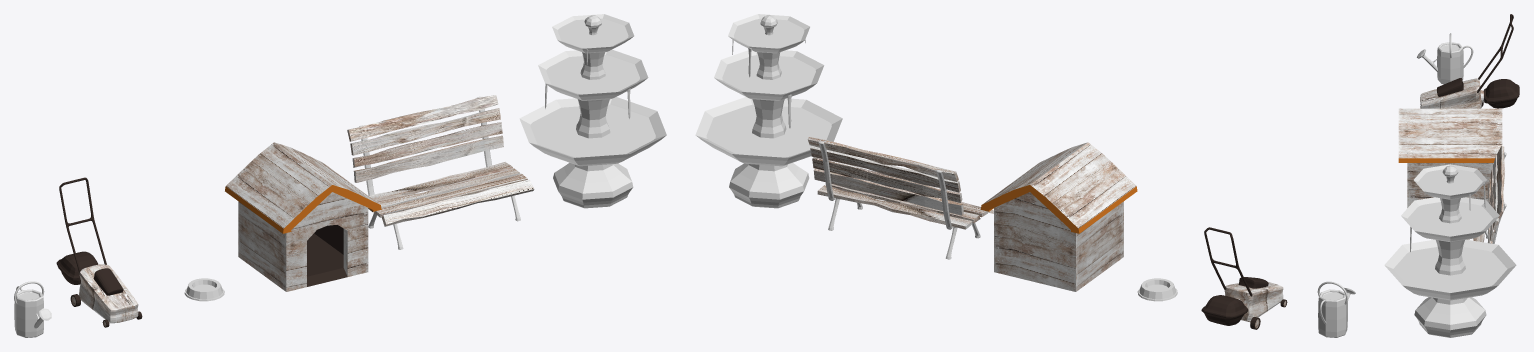
The model's file is Garden.fbx.
The picture shows the model from 3 angles, left to right: view 1: azimuth 30°, elevation 25°; view 2: azimuth 150°, elevation 25°; view 3: azimuth 270°, elevation 25°; orthographic projection. The views are drawn at different scales.
Visible parts, largest first — view 1: DogHouse, Bench, Fountain, FrozenWater, Lawnmower, WateringCan, DogPlate, Bench_Metal; view 2: DogHouse, Fountain, Bench, FrozenWater, Lawnmower, WateringCan, Bench_Metal, DogPlate; view 3: Fountain, DogHouse, FrozenWater, Lawnmower, WateringCan, Bench, FrozenSpikeWater, Bench_Metal.
Part boxes in pixels (<box>): DogHouse: <box>225,142,381,291</box>; Bench: <box>347,95,534,226</box>; Fountain: <box>519,14,666,208</box>; FrozenWater: <box>530,18,655,157</box>; Lawnmower: <box>56,177,142,327</box>; WateringCan: <box>14,281,51,337</box>; DogPlate: <box>184,278,224,301</box>; Bench_Metal: <box>359,96,520,249</box>; DogHouse: <box>980,142,1137,291</box>; Fountain: <box>695,14,842,208</box>; Bench: <box>807,137,993,229</box>; FrozenWater: <box>706,18,831,157</box>; Lawnmower: <box>1201,227,1287,329</box>; WateringCan: <box>1317,281,1355,337</box>; Bench_Metal: <box>818,141,980,259</box>; DogPlate: <box>1137,278,1177,301</box>; Fountain: <box>1384,164,1516,337</box>; DogHouse: <box>1398,108,1502,207</box>; FrozenWater: <box>1393,169,1507,292</box>; Lawnmower: <box>1420,14,1519,108</box>; WateringCan: <box>1417,33,1473,84</box>; Bench: <box>1467,146,1504,243</box>; FrozenSpikeWater: <box>1410,183,1485,251</box>; Bench_Metal: <box>1485,152,1506,243</box>.
Bounding box in the file's own units: 3604 × 974 × 737.
